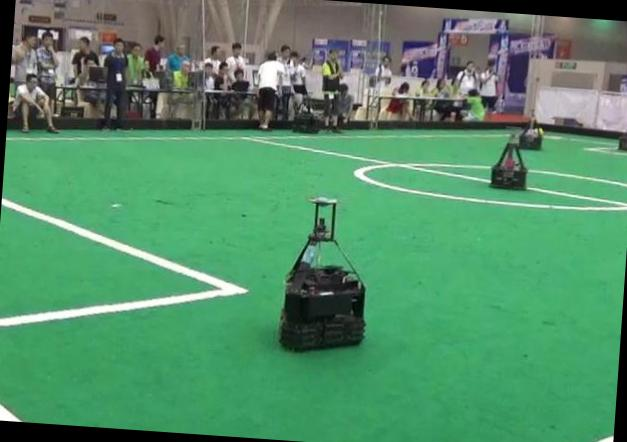person: (257, 52, 285, 129), (321, 51, 341, 132)
robot: (279, 197, 363, 349), (489, 142, 526, 189), (292, 93, 320, 134), (518, 119, 543, 150)
